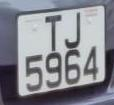4: (82, 42, 101, 91)
5: (22, 50, 46, 98)
6: (62, 47, 85, 91)
9: (42, 49, 66, 94)
J: (62, 10, 85, 53)
T: (42, 11, 66, 53)
